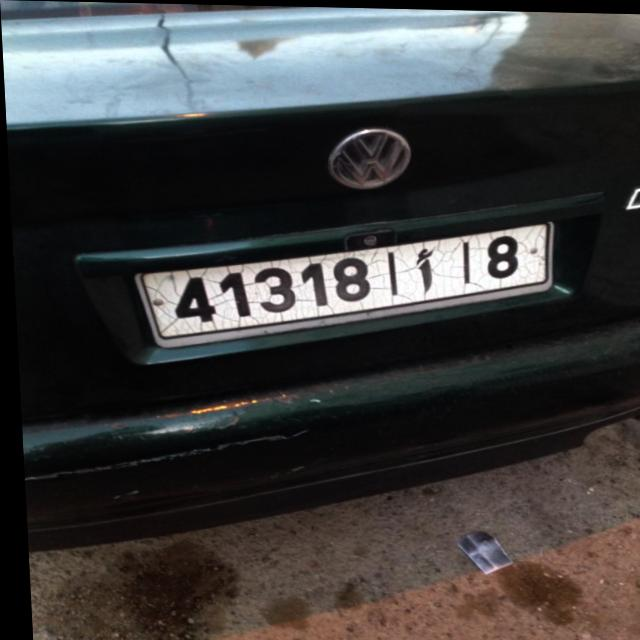License-Plate: (141, 222, 545, 336)
